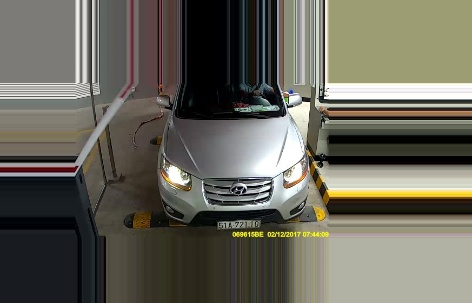plate: (217, 218, 260, 230)
